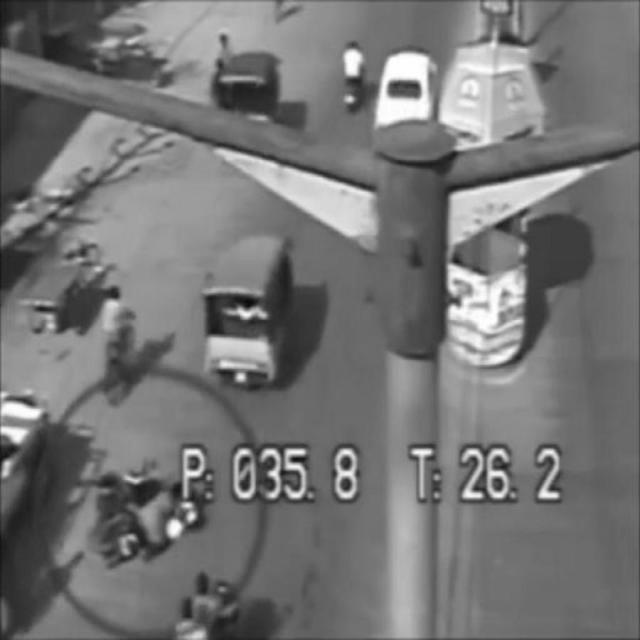vehicle: (199, 230, 291, 384), (94, 458, 206, 562), (103, 280, 139, 411), (342, 38, 369, 111)
